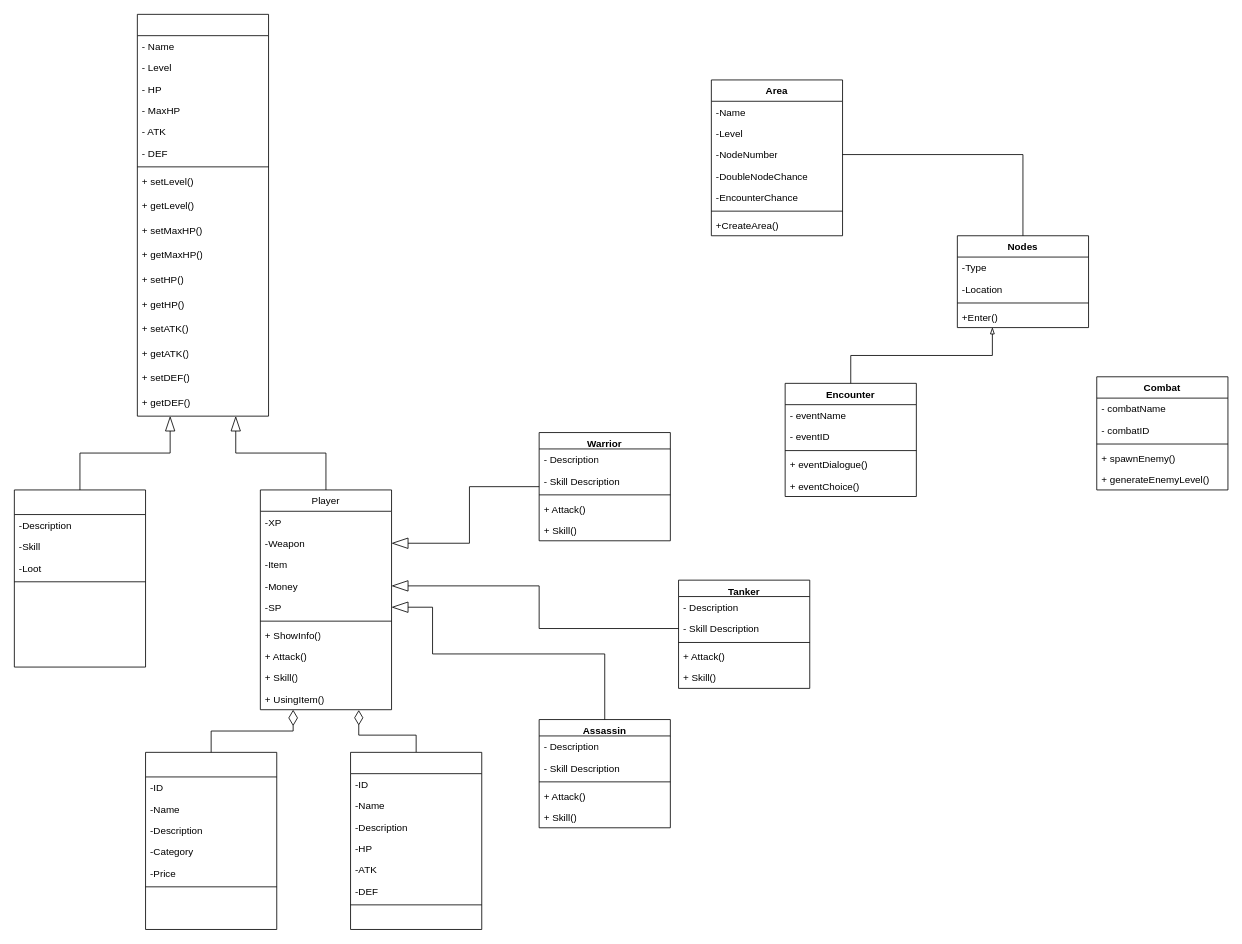
Some shapes in this 1242 by 944 pixel diagram are drawn without their labels. Here are the shapes that lost their labels. From the top down, the box of each, then its label:
(137, 14, 269, 416): Character
(14, 489, 146, 667): Enemy
(145, 752, 277, 929): Item
(350, 752, 482, 929): Weapon
